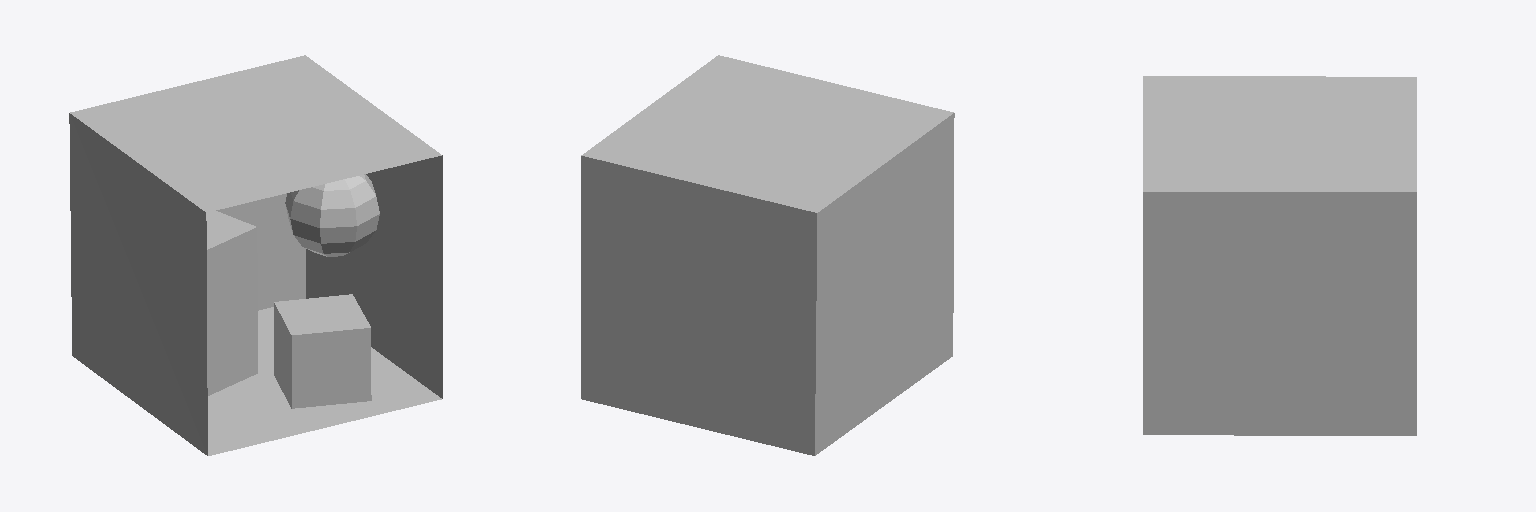
3 renders of one model, left to right at view 1: azimuth 30°, elevation 25°; view 2: azimuth 150°, elevation 25°; view 3: azimuth 270°, elevation 25°, orthographic.
Visible parts, largest first — view 1: left_wall, ceiling, right_wall, floor, short_box, tall_box, sphere, back_wall; view 2: back_wall, left_wall, ceiling; view 3: right_wall, ceiling.
Boxes of the visible parts, x1,y1,x2,y2 form: left_wall: [69, 113, 207, 455]; ceiling: [70, 55, 441, 212]; right_wall: [306, 155, 442, 398]; floor: [208, 307, 441, 455]; short_box: [274, 294, 371, 408]; tall_box: [206, 211, 257, 395]; sphere: [285, 174, 379, 256]; back_wall: [216, 193, 305, 310]; back_wall: [581, 156, 816, 455]; left_wall: [815, 113, 954, 455]; ceiling: [581, 55, 953, 212]; right_wall: [1143, 192, 1416, 435]; ceiling: [1143, 76, 1416, 191].
Bounding box in the file's own units: 5.56 × 5.49 × 5.6.